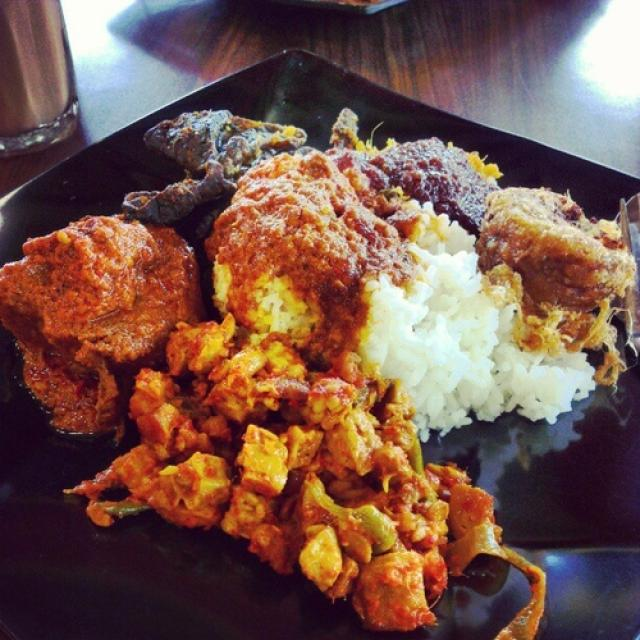米饭主食: (9, 28, 626, 621)
